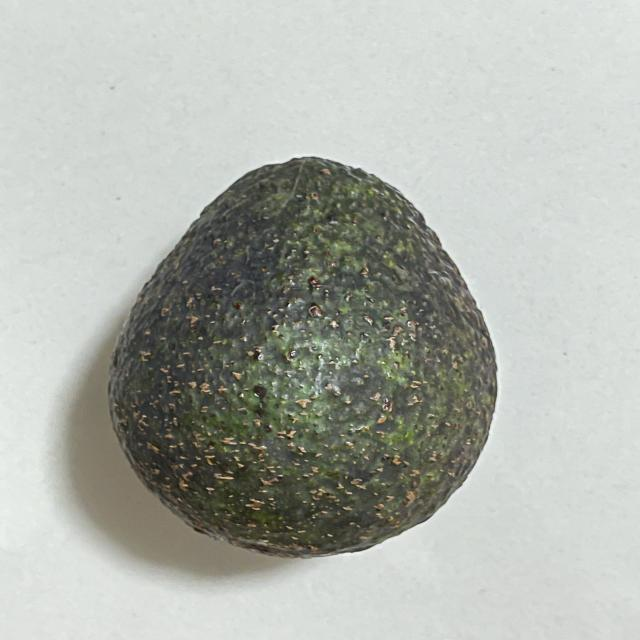Level1: (93, 143, 520, 570)
